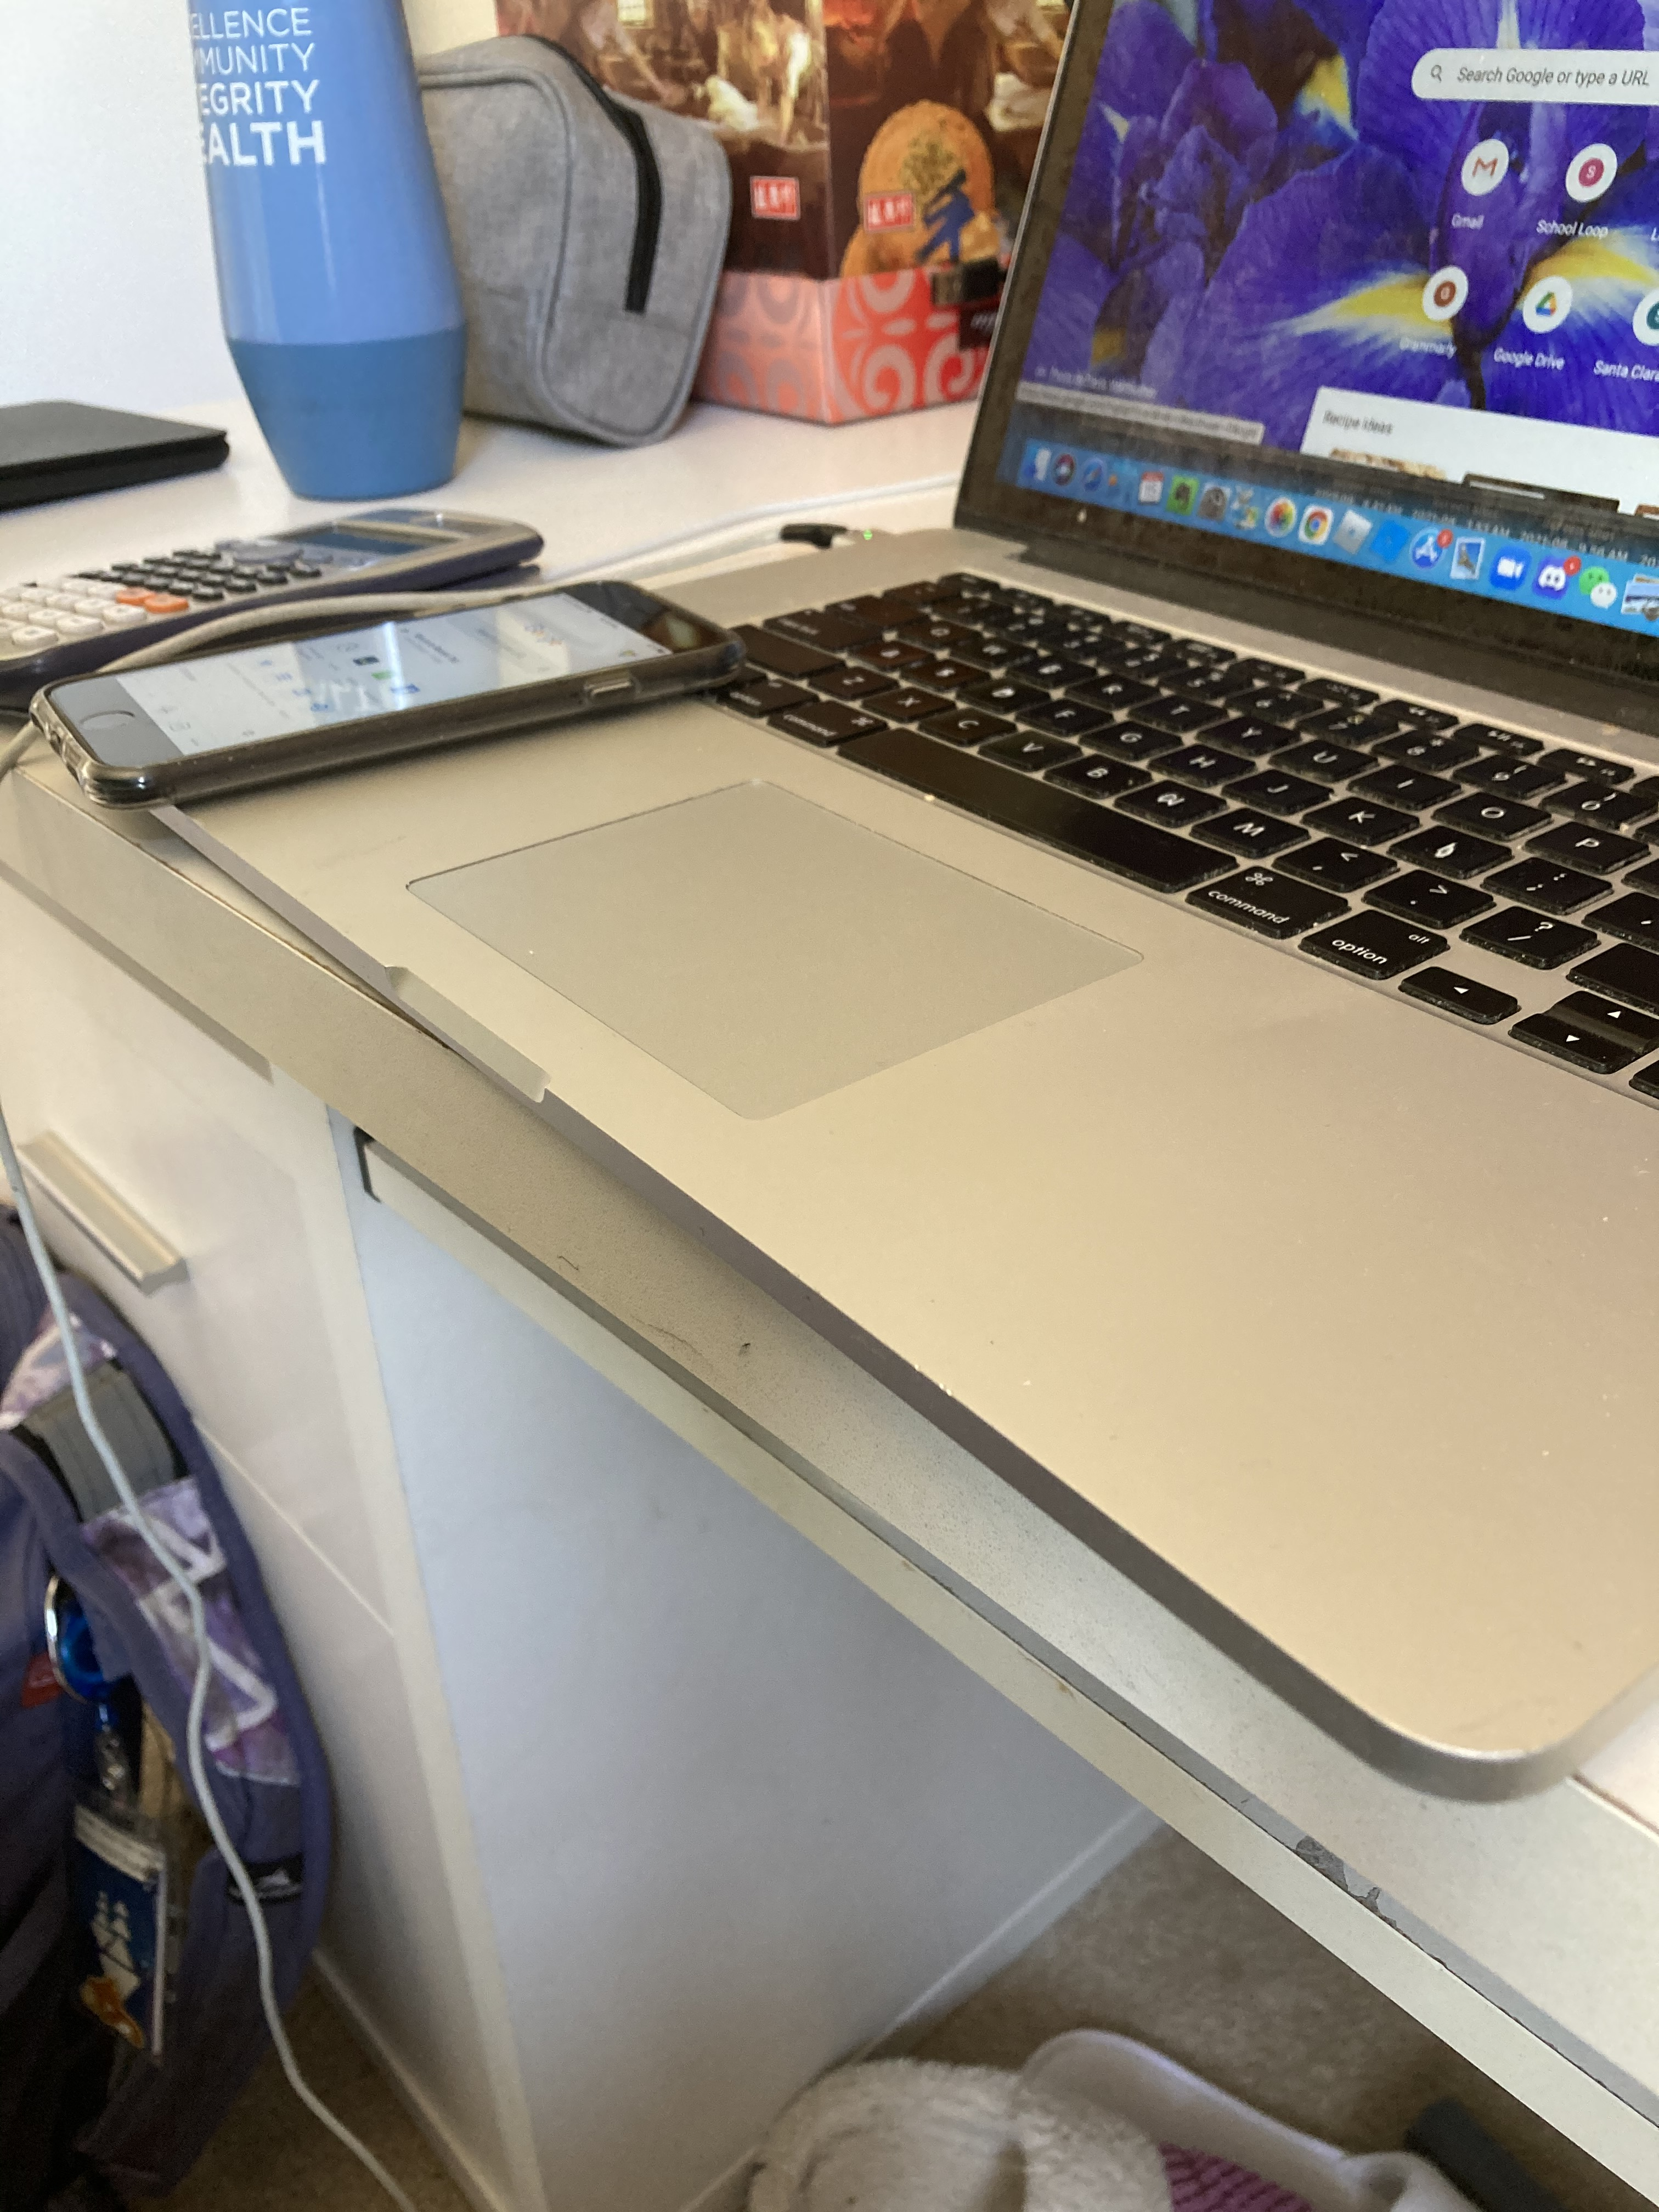Calculator: (9, 509, 558, 644)
Cell Phone: (40, 583, 746, 770)
